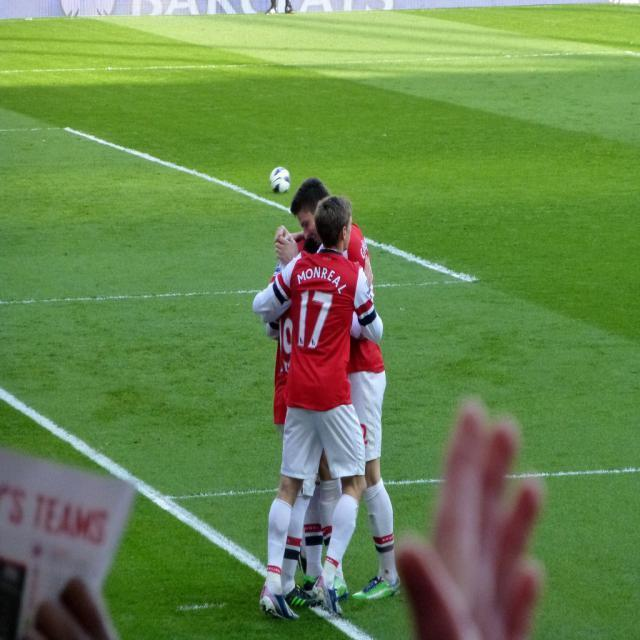Football: (269, 166, 290, 195)
